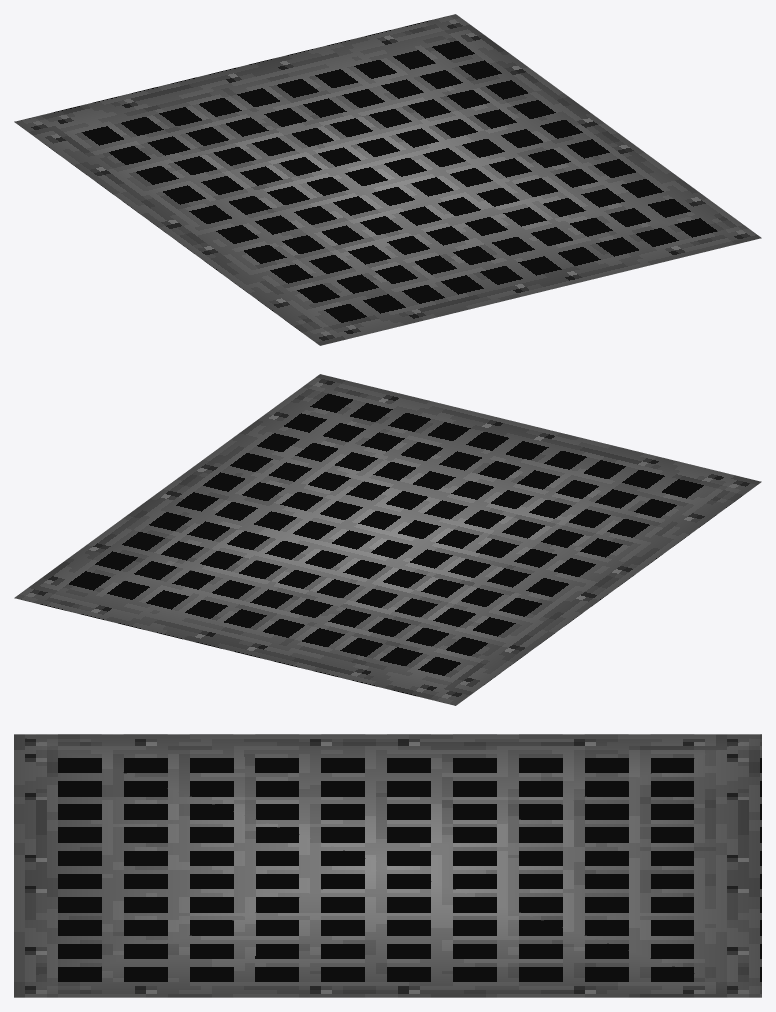
File: Facility_Alpha_31.glb
3 renders of one model, top to bottom at view 1: azimuth 30°, elevation 25°; view 2: azimuth 150°, elevation 25°; view 3: azimuth 270°, elevation 25°, orthographic. The views are drawn at different scales.
Parts seen in each view (by area): view 1: Facility_Alpha_31; view 2: Facility_Alpha_31; view 3: Facility_Alpha_31.
Part boxes in pixels (x1=…): Facility_Alpha_31: x1=14, y1=14, x2=761, y2=345; Facility_Alpha_31: x1=14, y1=374, x2=761, y2=705; Facility_Alpha_31: x1=14, y1=734, x2=761, y2=997.
Bounding box in the file's own units: 10 × 0 × 12.
Materials: 1 (1 with a texture image).
